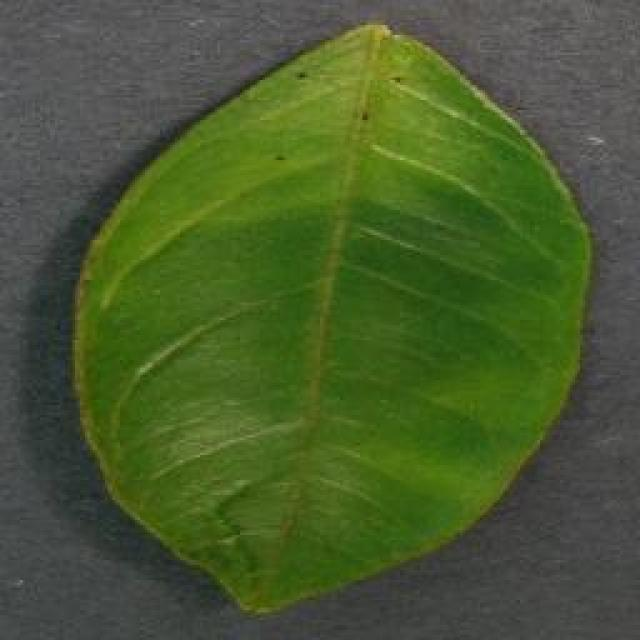Orange_Haunglongbing_Citrus_greening: (132, 112, 548, 548)
